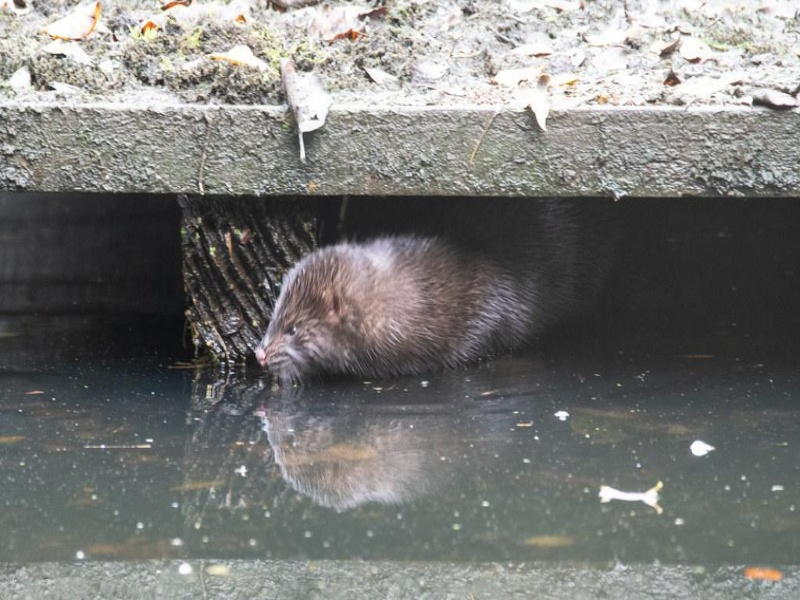minkish: (255, 206, 598, 388)
